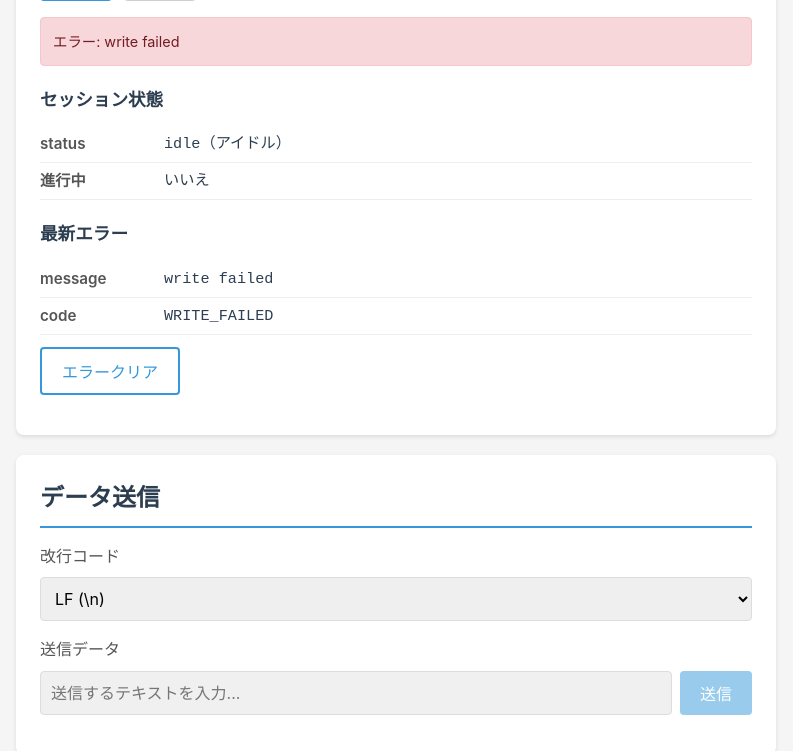
Test: App › エラークリアボタンで最新エラー表示を消せる
(page scrolled)
Expected: the text "WRITE_FAILED" is shown, left=164, top=307, right=273, bottom=325
Step 1. Click the button with test id "clear-error" → (110, 371), box left=40, top=347, right=180, bottom=395
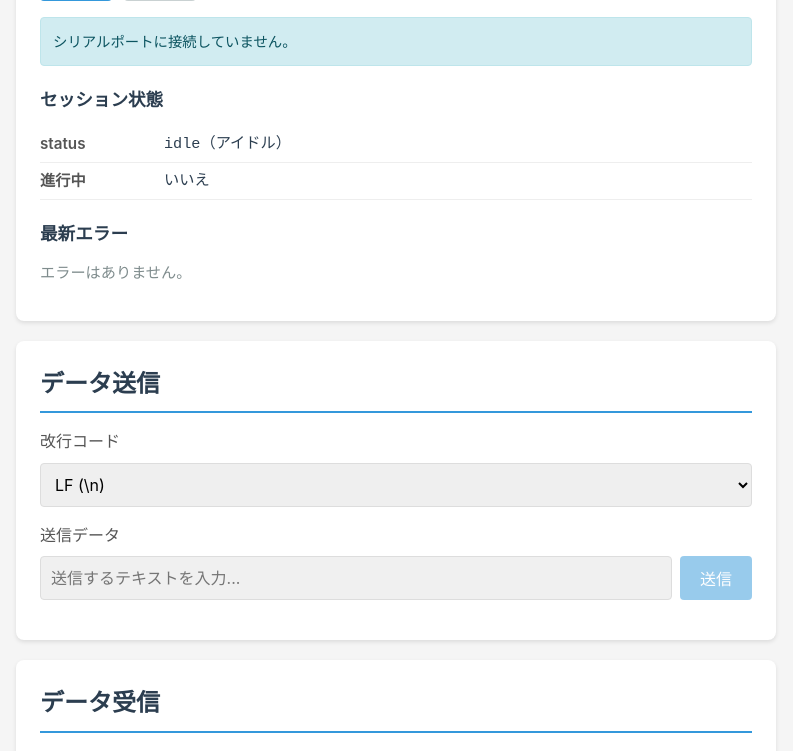
Now the text "エラーはありません。" is shown, box left=40, top=263, right=191, bottom=282
